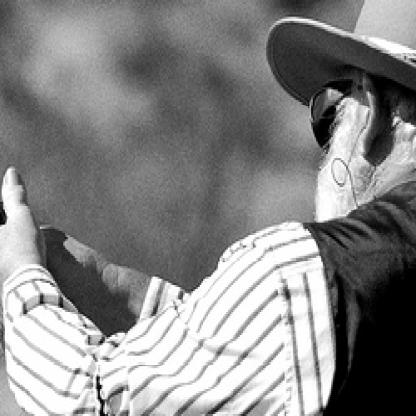gun: (0, 152, 53, 320)
